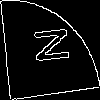N: (25, 24, 70, 66)
